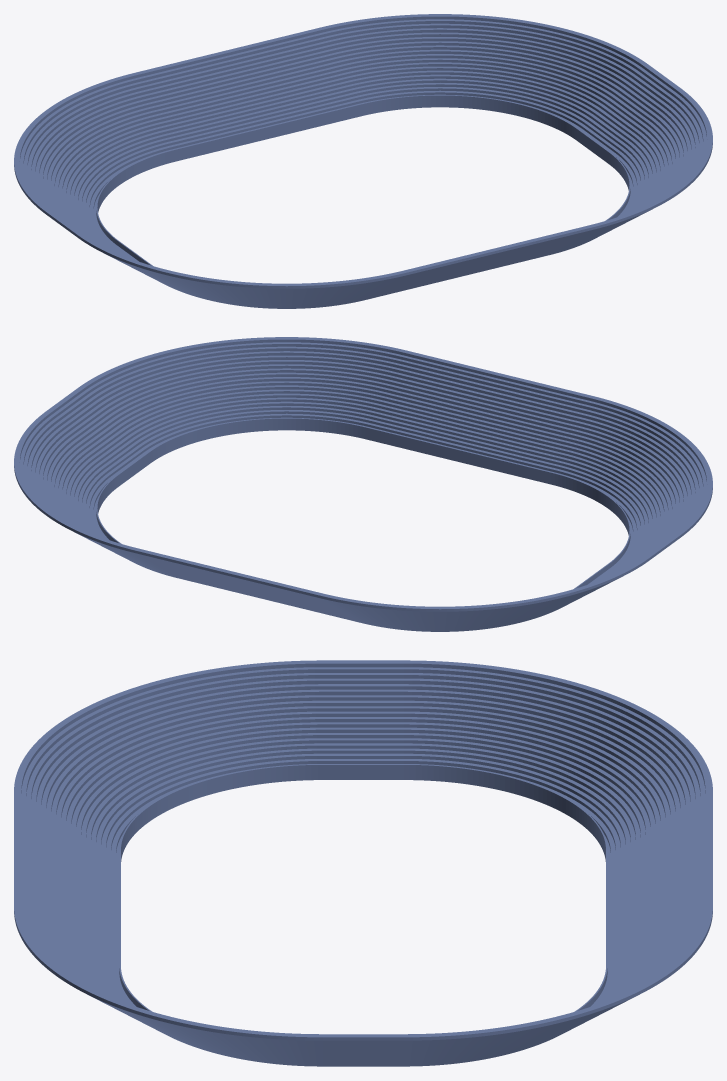
Rendered from SM_Arena_Main_BowlUpper.fbx.
3 renders of one model, top to bottom at view 1: azimuth 30°, elevation 25°; view 2: azimuth 150°, elevation 25°; view 3: azimuth 270°, elevation 25°, orthographic. The views are drawn at different scales.
Visible parts, largest first — view 1: SM_Arena_Main_U204, SM_Arena_Main_U203, SM_Arena_Main_U209, SM_Arena_Main_U220, SM_Arena_Main_U210, SM_Arena_Main_U207, SM_Arena_Main_U208, SM_Arena_Main_U205, SM_Arena_Main_U206, SM_Arena_Main_U214, SM_Arena_Main_U213, SM_Arena_Main_U201 (+7 smaller); view 2: SM_Arena_Main_U219, SM_Arena_Main_U220, SM_Arena_Main_U214, SM_Arena_Main_U203, SM_Arena_Main_U213, SM_Arena_Main_U216, SM_Arena_Main_U215, SM_Arena_Main_U218, SM_Arena_Main_U217, SM_Arena_Main_U209, SM_Arena_Main_U210, SM_Arena_Main_U202 (+7 smaller); view 3: SM_Arena_Main_U210, SM_Arena_Main_U213, SM_Arena_Main_U209, SM_Arena_Main_U214, SM_Arena_Main_U203, SM_Arena_Main_U220, SM_Arena_Main_U211, SM_Arena_Main_U212, SM_Arena_Main_U204, SM_Arena_Main_U219, SM_Arena_Main_U208, SM_Arena_Main_U215 (+8 smaller).
Boxes of the visible parts, x1,y1,x2,y2 form: SM_Arena_Main_U204: [320, 14, 502, 116]; SM_Arena_Main_U203: [481, 17, 648, 140]; SM_Arena_Main_U209: [22, 73, 176, 200]; SM_Arena_Main_U220: [608, 88, 712, 207]; SM_Arena_Main_U210: [14, 134, 117, 245]; SM_Arena_Main_U207: [181, 50, 268, 149]; SM_Arena_Main_U208: [135, 61, 222, 161]; SM_Arena_Main_U205: [274, 27, 361, 127]; SM_Arena_Main_U206: [227, 39, 314, 138]; SM_Arena_Main_U214: [224, 270, 407, 308]; SM_Arena_Main_U213: [78, 234, 245, 306]; SM_Arena_Main_U201: [592, 76, 679, 163]; SM_Arena_Main_U219: [224, 337, 406, 439]; SM_Arena_Main_U220: [78, 340, 245, 463]; SM_Arena_Main_U214: [550, 396, 704, 523]; SM_Arena_Main_U203: [14, 411, 118, 530]; SM_Arena_Main_U213: [609, 457, 712, 568]; SM_Arena_Main_U216: [458, 373, 545, 472]; SM_Arena_Main_U215: [504, 384, 591, 484]; SM_Arena_Main_U218: [365, 350, 452, 450]; SM_Arena_Main_U217: [412, 362, 499, 461]; SM_Arena_Main_U209: [319, 593, 502, 631]; SM_Arena_Main_U210: [481, 557, 648, 629]; SM_Arena_Main_U202: [47, 399, 134, 486]; SM_Arena_Main_U210: [404, 660, 621, 804]; SM_Arena_Main_U213: [105, 660, 322, 804]; SM_Arena_Main_U209: [547, 699, 712, 861]; SM_Arena_Main_U214: [14, 699, 179, 861]; SM_Arena_Main_U203: [404, 997, 622, 1066]; SM_Arena_Main_U220: [104, 997, 322, 1066]; SM_Arena_Main_U211: [363, 660, 403, 779]; SM_Arena_Main_U212: [323, 660, 363, 779]; SM_Arena_Main_U204: [549, 906, 712, 1040]; SM_Arena_Main_U219: [14, 906, 177, 1040]; SM_Arena_Main_U208: [606, 791, 712, 885]; SM_Arena_Main_U215: [14, 791, 120, 885].
Size of the model in its own units: 14340 by 1320 by 11240.
